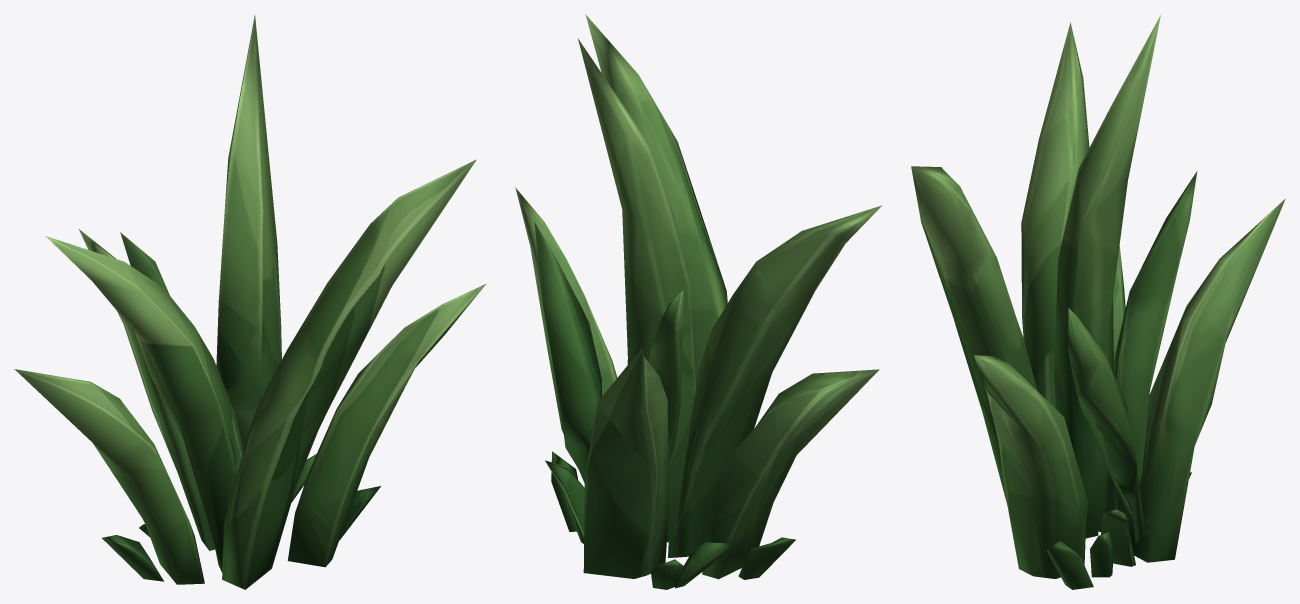
File: trava3_500.glb
The picture shows the model from 3 angles, left to right: view 1: azimuth 30°, elevation 25°; view 2: azimuth 150°, elevation 25°; view 3: azimuth 270°, elevation 25°; orthographic projection. The views are drawn at different scales.
Size of the model in its own units: 0.8086 by 0.9526 by 0.5854.
Materials: 1 (1 with a texture image).
